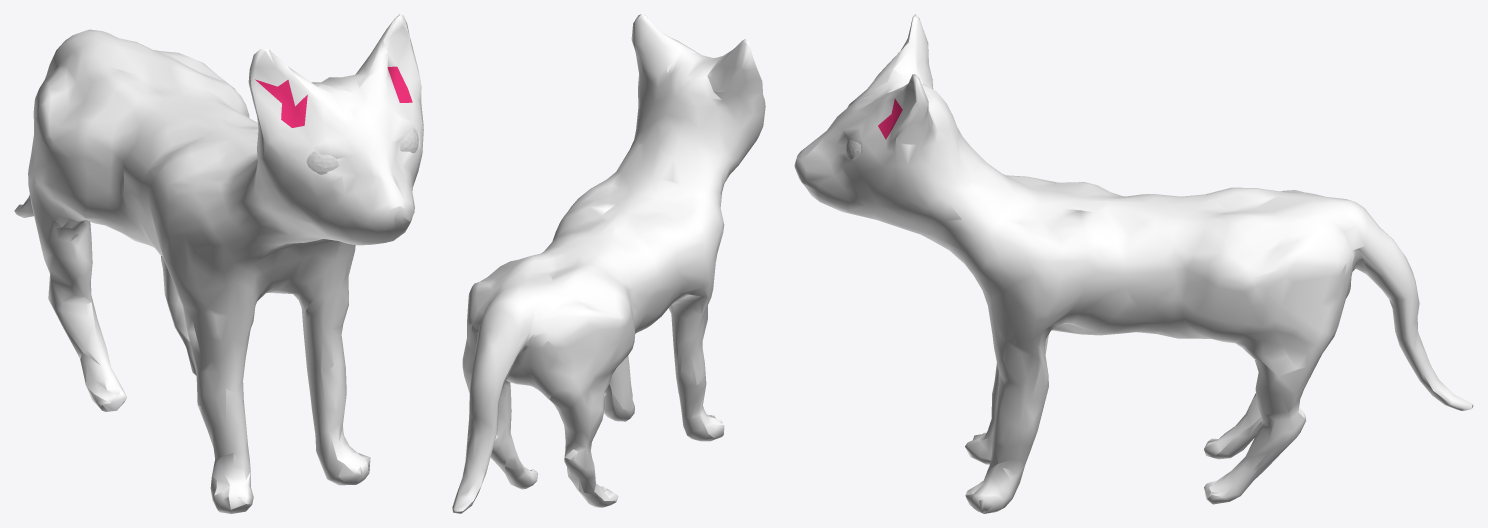
File: cat.fbx
3 renders of one model, left to right at view 1: azimuth 30°, elevation 25°; view 2: azimuth 150°, elevation 25°; view 3: azimuth 270°, elevation 25°, orthographic. The views are drawn at different scales.
Parts seen in each view (by area): view 1: Quad Sphere, Icosphere; view 2: Quad Sphere; view 3: Quad Sphere.
Part boxes in pixels (left/top/right/bottom): Quad Sphere: left=14, top=14, right=423, bottom=513; Icosphere: left=306, top=128, right=418, bottom=174; Quad Sphere: left=452, top=14, right=765, bottom=513; Quad Sphere: left=794, top=14, right=1473, bottom=513.
Size of the model in its own units: 396 by 984 by 1371.
